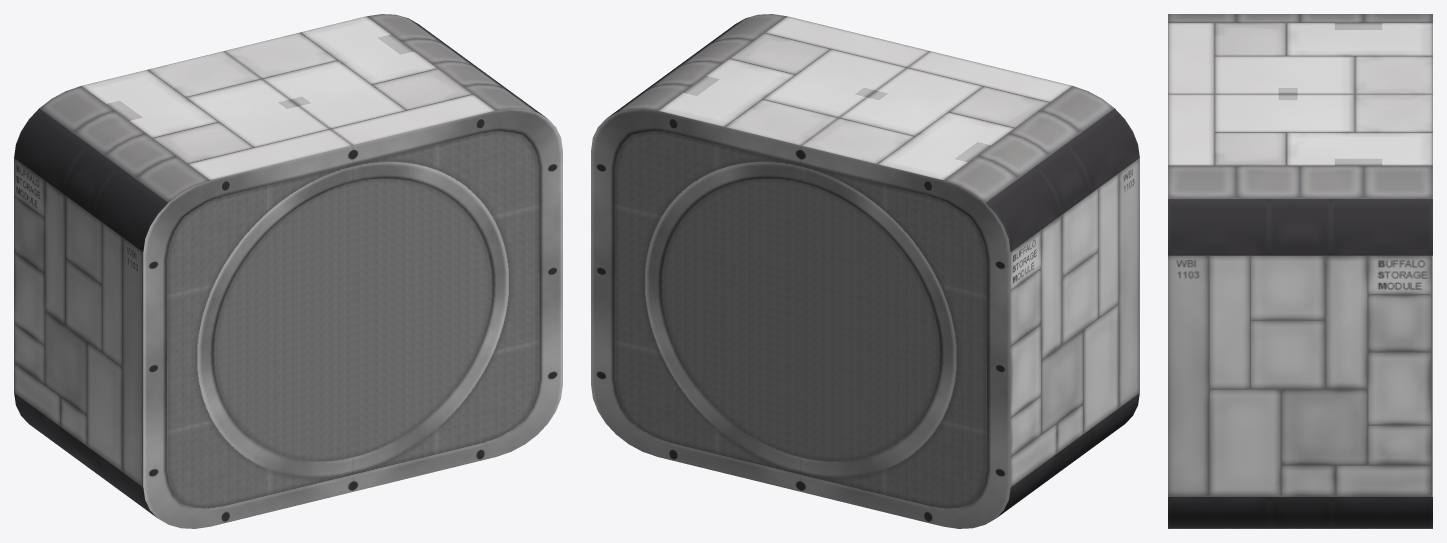
The model's file is Tundra200.FBX.
3 renders of one model, left to right at view 1: azimuth 30°, elevation 25°; view 2: azimuth 150°, elevation 25°; view 3: azimuth 270°, elevation 25°, orthographic. The views are drawn at different scales.
Visible parts, largest first — view 1: HardShell2U; view 2: HardShell2U; view 3: HardShell2U.
Boxes of the visible parts, bbox=[...] form: HardShell2U: bbox=[14, 14, 562, 528]; HardShell2U: bbox=[591, 14, 1139, 528]; HardShell2U: bbox=[1168, 14, 1432, 528].
Size of what is drawn, in the model's own units: 1.59 by 1.25 by 0.8461.
